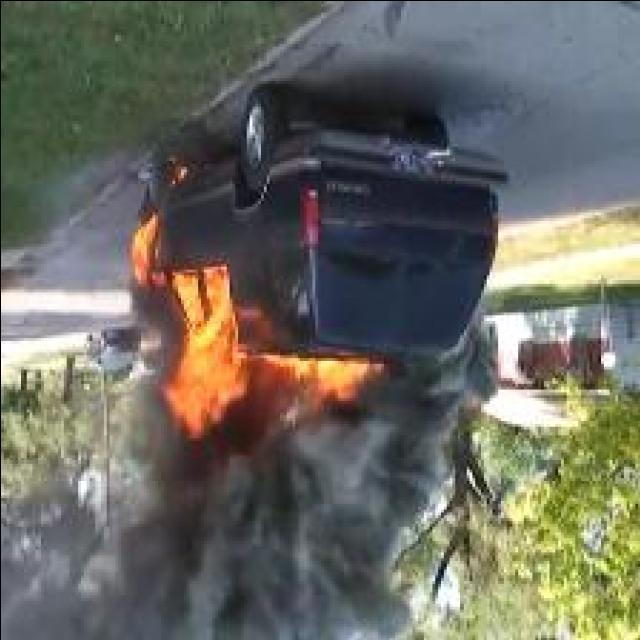Fire: (160, 266, 383, 440), (129, 213, 157, 287)
